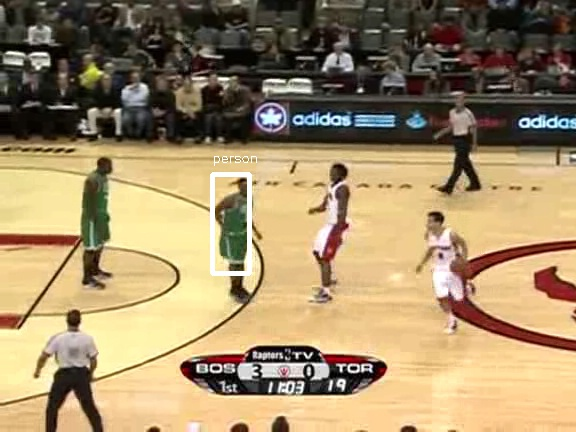person: (226, 186, 260, 267), (225, 186, 259, 267), (227, 186, 261, 267), (226, 185, 260, 266), (226, 187, 260, 268)
target_negative: (455, 76, 533, 293), (9, 348, 254, 379), (417, 330, 535, 364), (539, 264, 565, 381), (413, 413, 528, 424), (278, 405, 329, 418)
